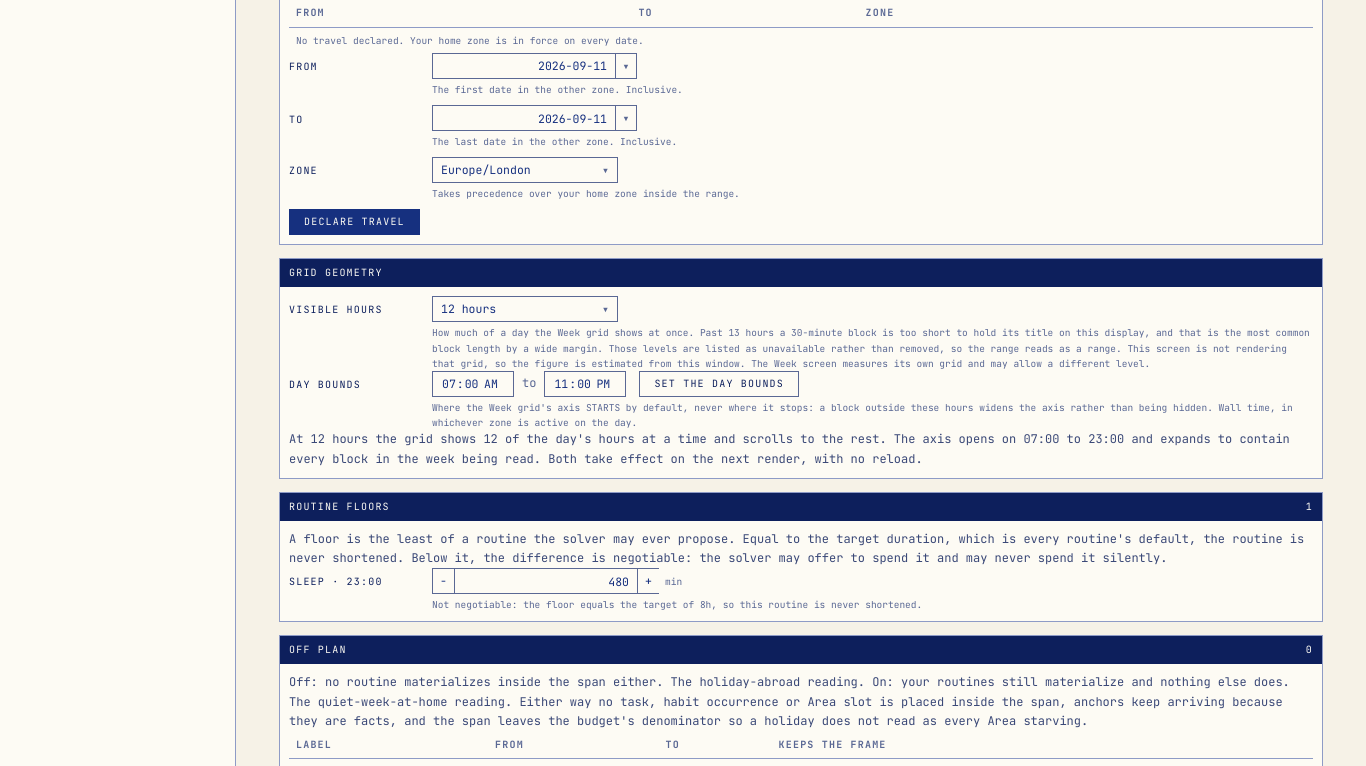
the grid geometry panel › renders the api's refusal of bounds with no length rather than predicting it
(page scrolled)
Replace the text in the time field named "from" with "23:00" at {"x": 473, "y": 384}, box 432,371 -> 514,397
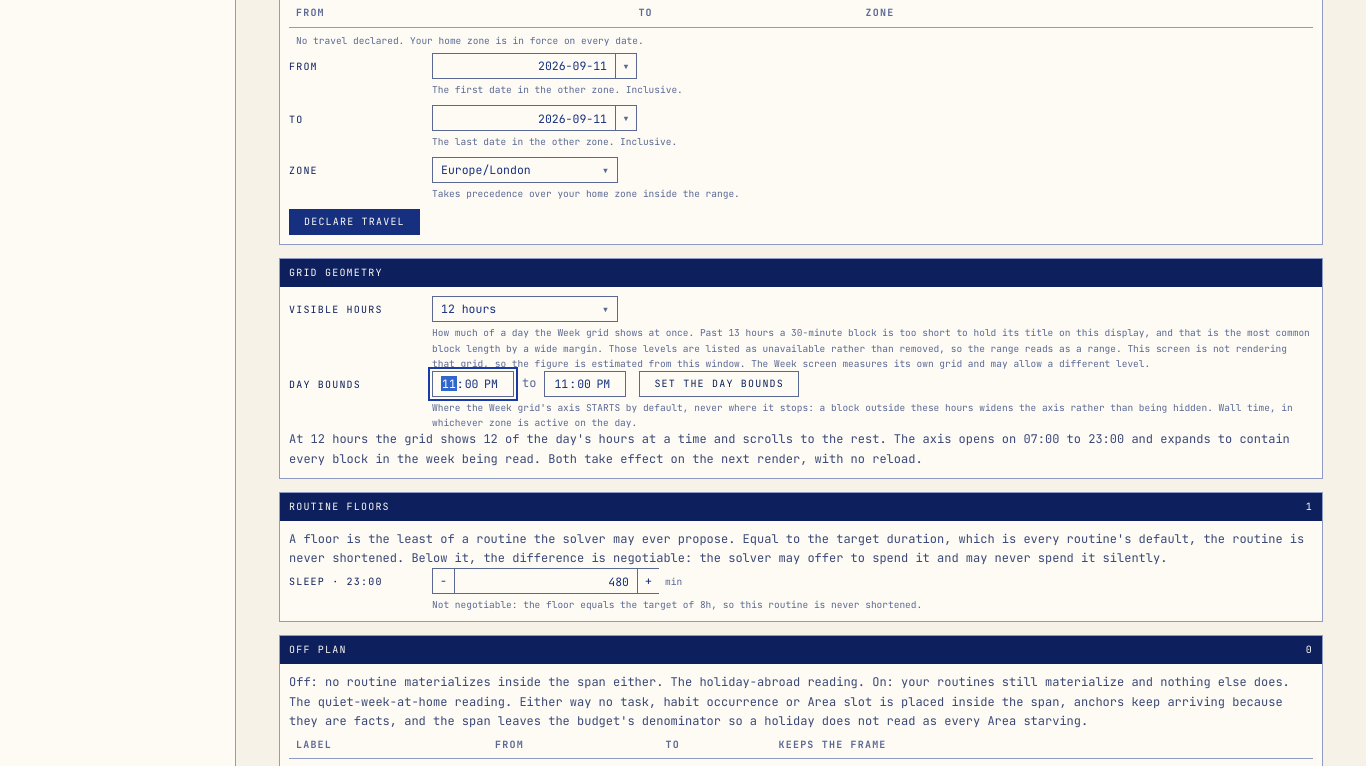
Replace the text in the time field named "to" with "07:00" at {"x": 585, "y": 384}, box 544,371 -> 626,397
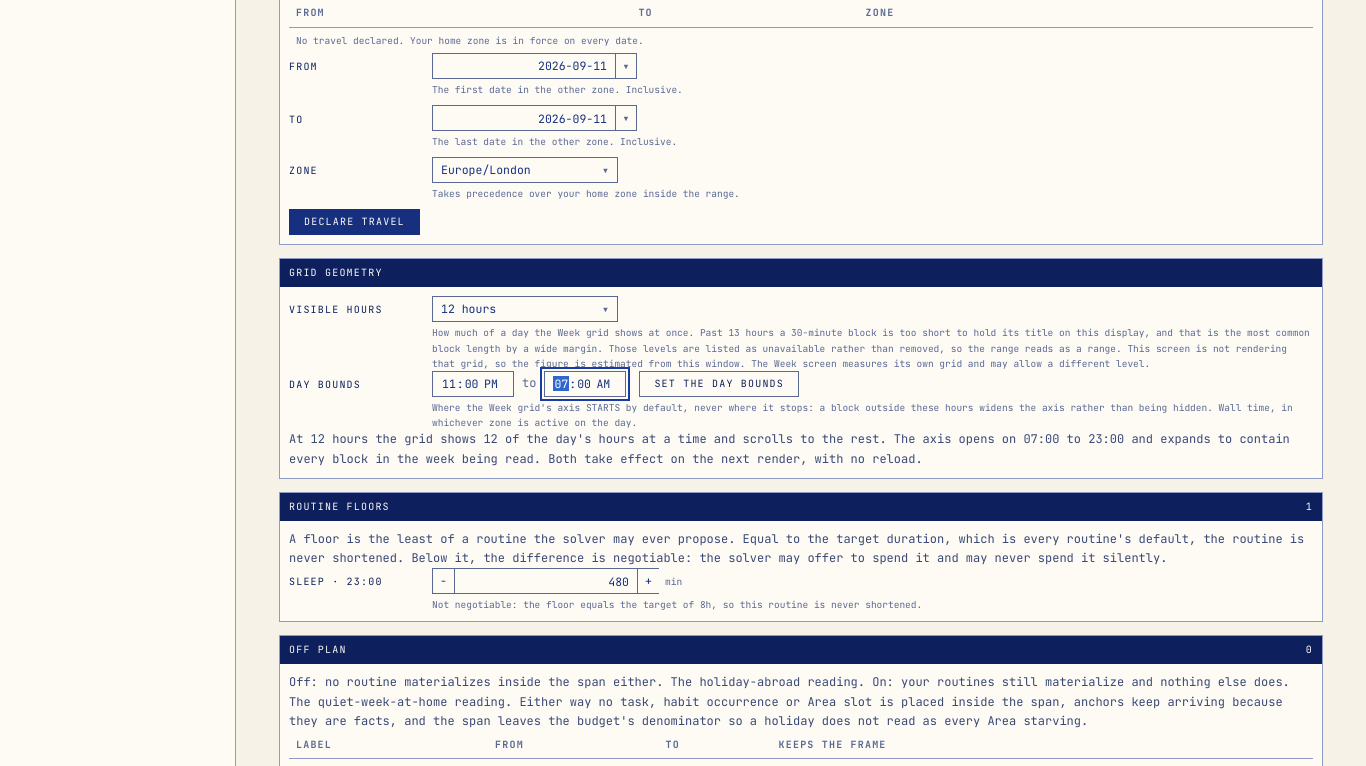
Click the button "Set the day bounds".
click(719, 384)  # box 639,371 -> 799,397
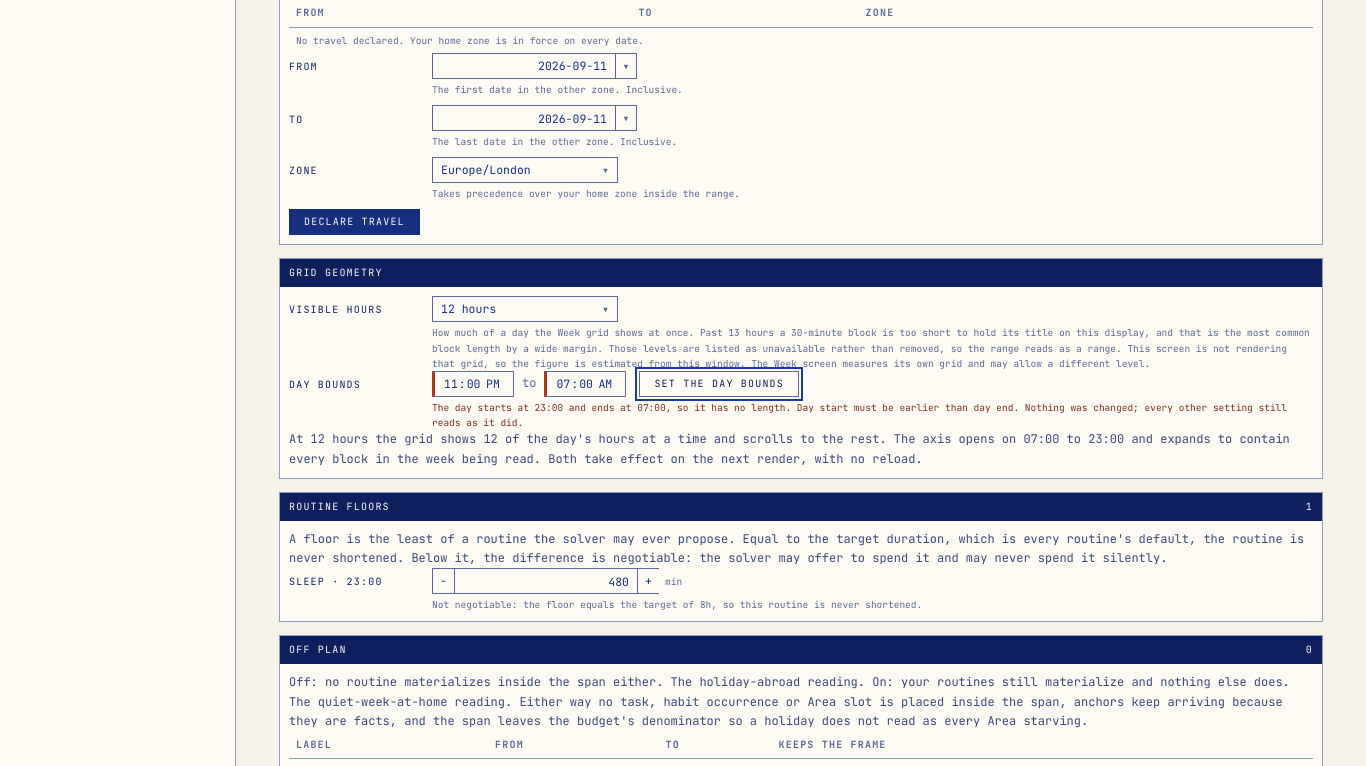
Expected: the text "so it has no length" is shown, 432,401 -> 1287,429
